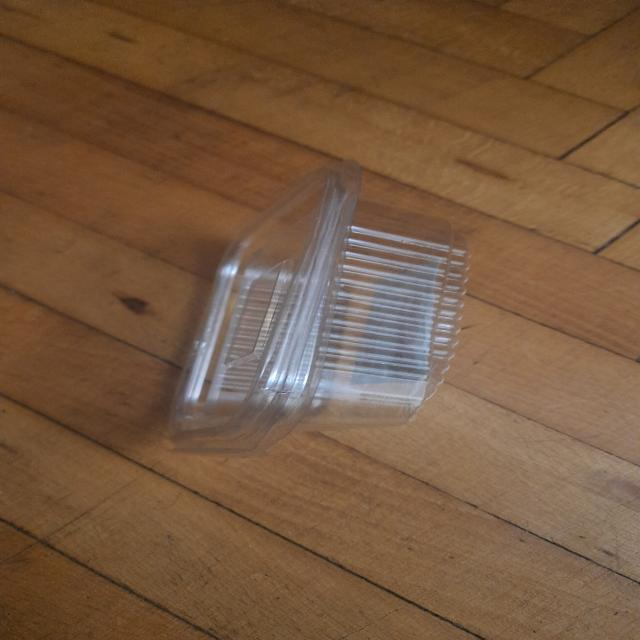plastic: (141, 157, 542, 497)
